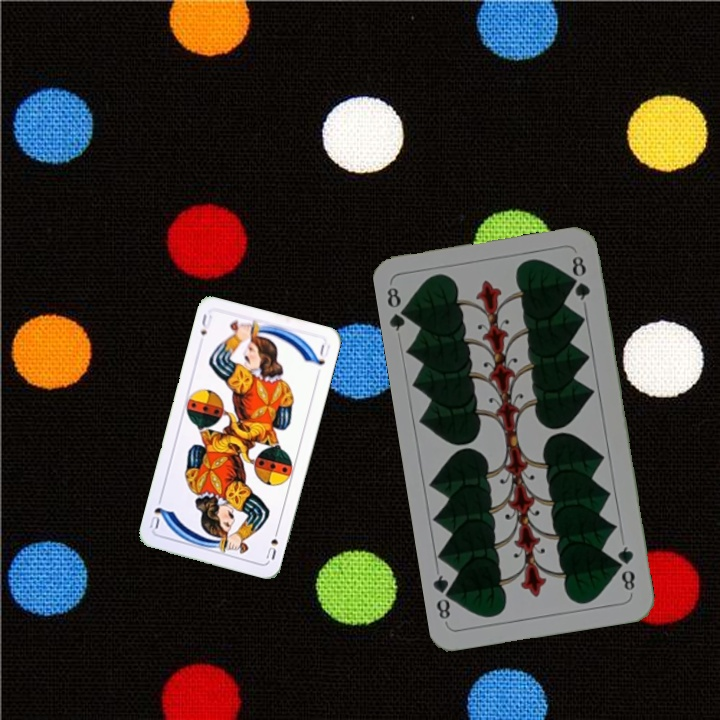G8: (383, 283, 414, 334), (613, 542, 638, 594)
SU: (262, 523, 281, 562), (197, 309, 215, 338)
